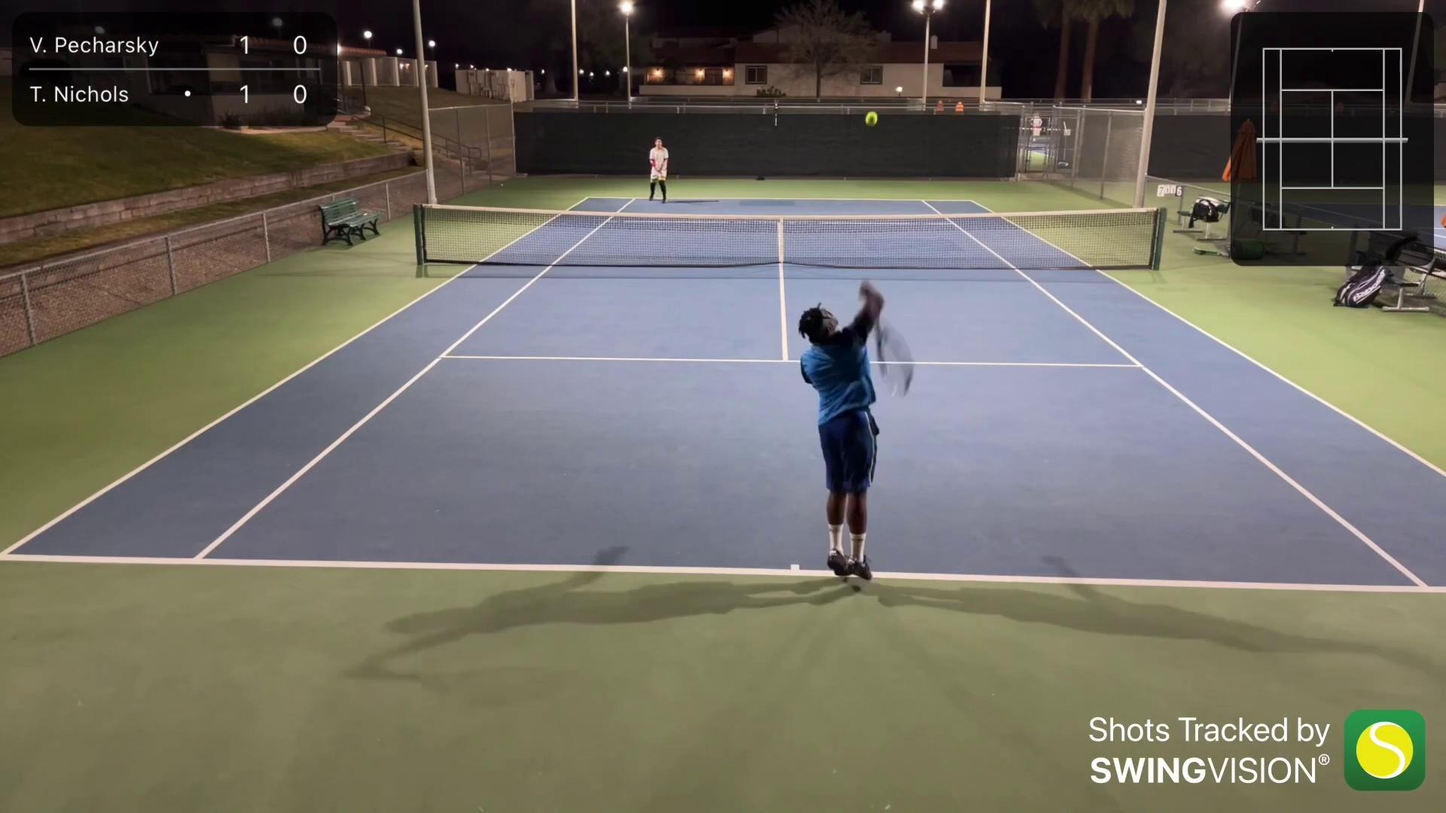ball: (861, 108, 882, 129)
